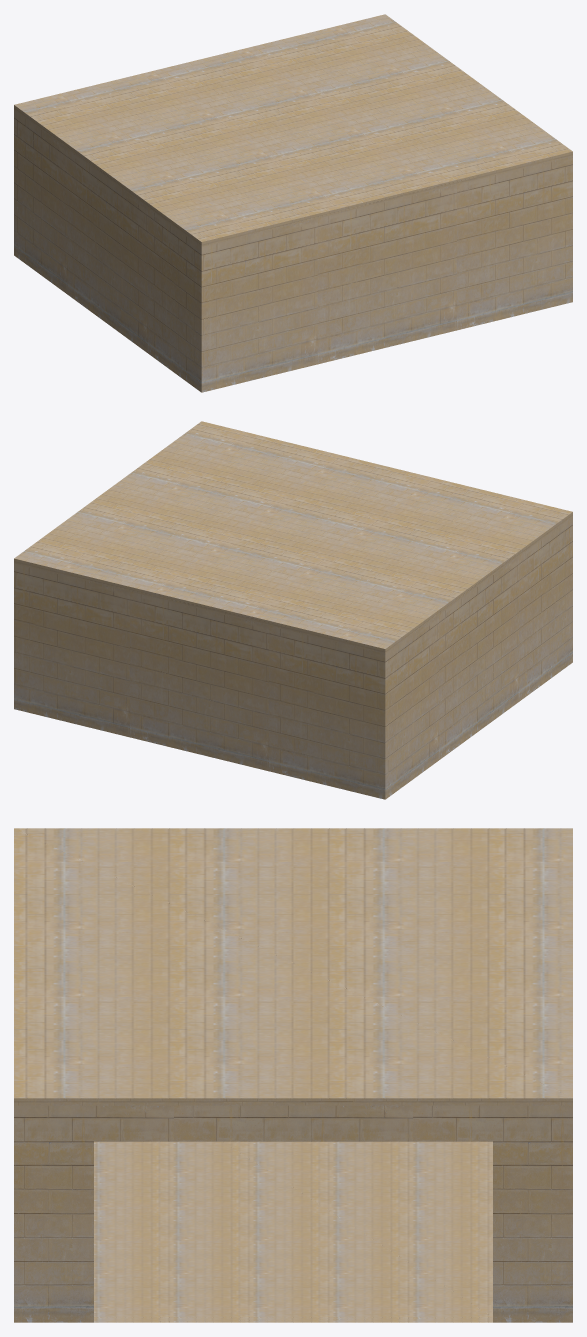
The model's file is bodega.obj.
3 renders of one model, top to bottom at view 1: azimuth 30°, elevation 25°; view 2: azimuth 150°, elevation 25°; view 3: azimuth 270°, elevation 25°, orthographic. The views are drawn at different scales.
Visible parts, largest first — view 1: Body, Roof; view 2: Body, Roof; view 3: Roof, Body.
Part boxes in pixels (<box>): Body: <box>14,110,572,392</box>; Roof: <box>14,14,572,246</box>; Body: <box>14,517,572,799</box>; Roof: <box>14,421,572,653</box>; Roof: <box>14,828,572,1105</box>; Body: <box>14,1105,572,1322</box>.
Bounding box in the file's own units: 85.66 × 33.19 × 74.95.
Materials: 1 (1 with a texture image).
